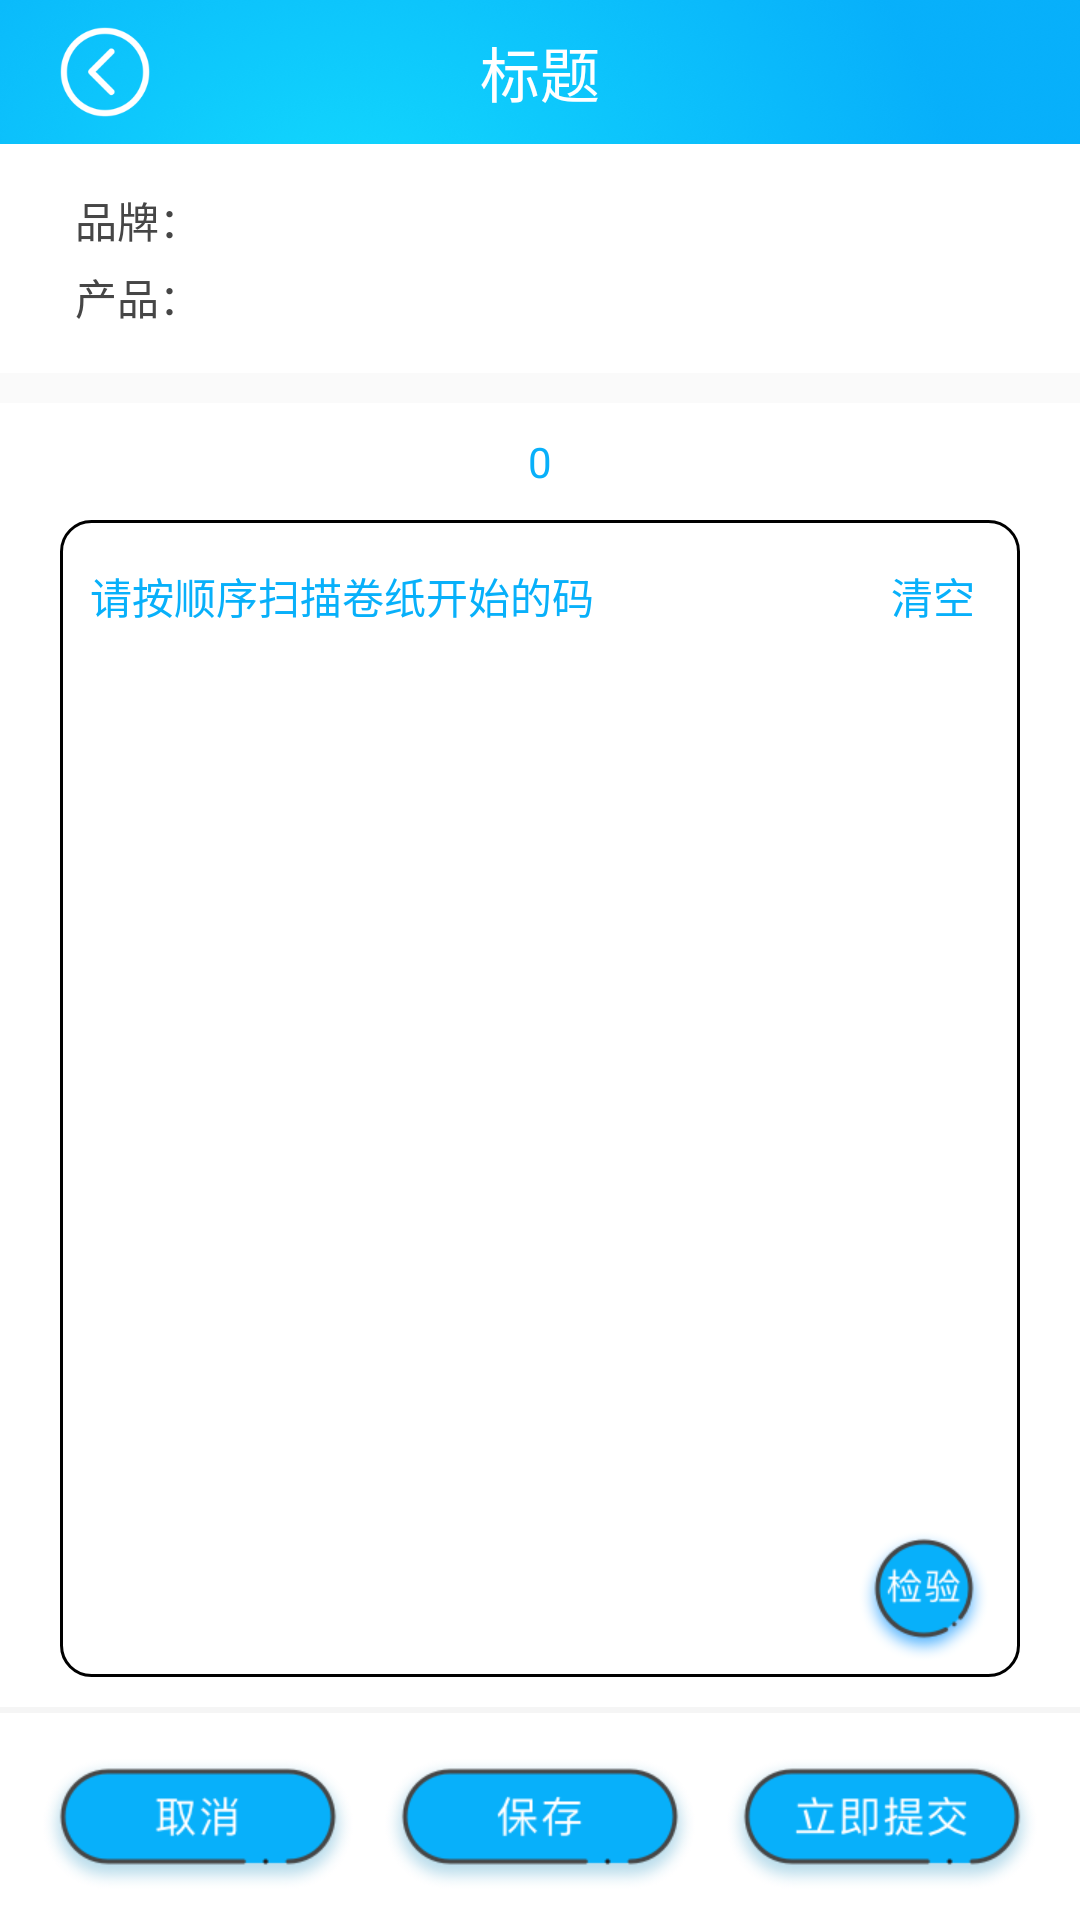

Point at icon controls on the screen. Image size 1080 × 1920, points as point (x, y).
back: point (105, 72)
